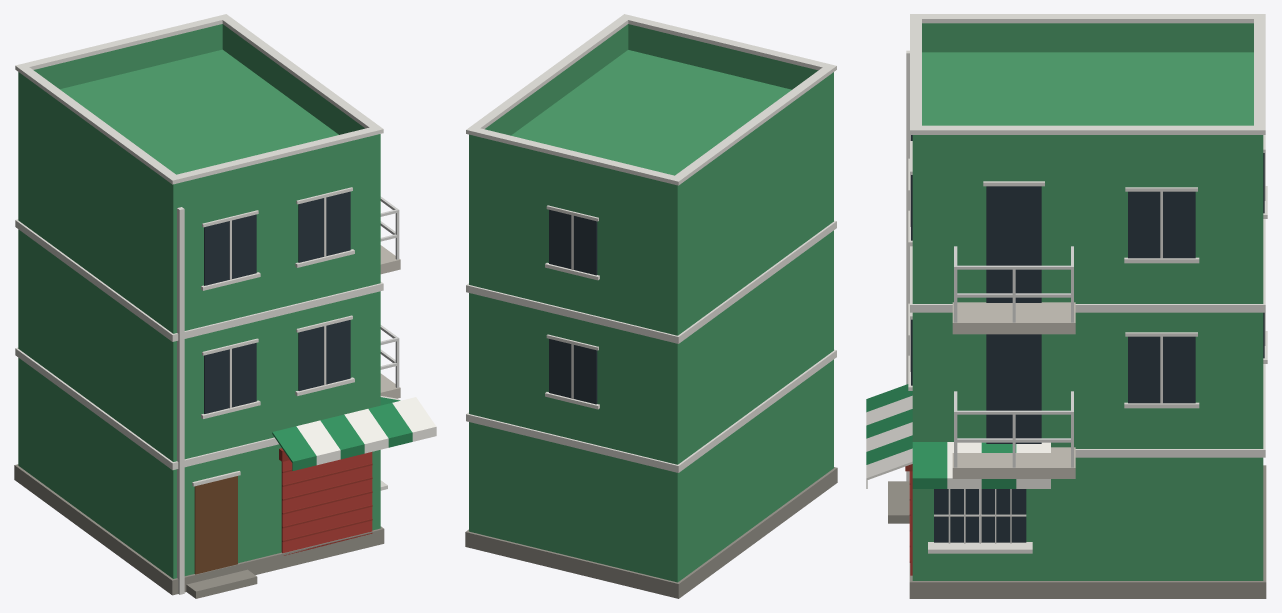
File: BAY_F_Corner_F.glb
3 views of the same model, side by side, from view 1: azimuth 30°, elevation 25°; view 2: azimuth 150°, elevation 25°; view 3: azimuth 270°, elevation 25° (orthographic). The views are drawn at different scales.
Visible parts, largest first — view 1: BAY_F_Corner_F; view 2: BAY_F_Corner_F; view 3: BAY_F_Corner_F.
Boxes of the visible parts, left/top/right/bottom form: BAY_F_Corner_F: left=14, top=14, right=436, bottom=598; BAY_F_Corner_F: left=465, top=14, right=837, bottom=598; BAY_F_Corner_F: left=866, top=14, right=1267, bottom=598.
Bounding box in the file's own units: 5.25 × 8.4 × 6.52.
Materials: 1 (1 with a texture image).
